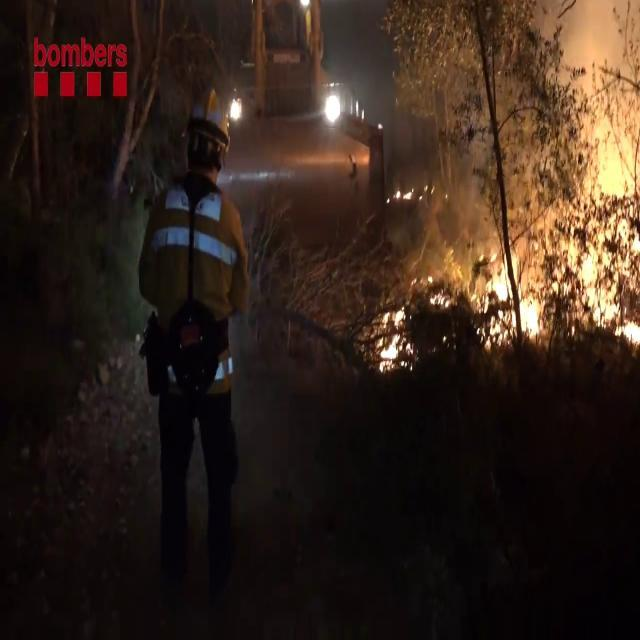Fire: (565, 106, 640, 344), (480, 240, 542, 344)
Smoke: (386, 14, 545, 266)
